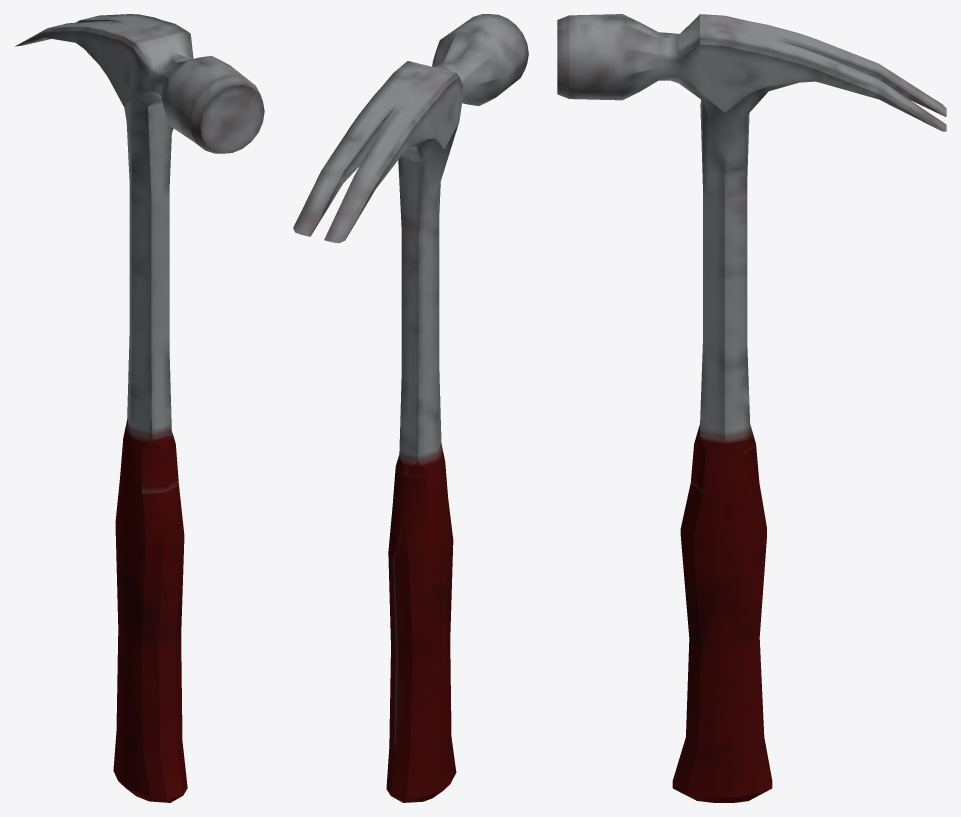
The model's file is claw_hammer.glb.
3 renders of one model, left to right at view 1: azimuth 30°, elevation 25°; view 2: azimuth 150°, elevation 25°; view 3: azimuth 270°, elevation 25°, orthographic. The views are drawn at different scales.
Parts seen in each view (by area): view 1: body; view 2: body; view 3: body.
Boxes of the visible parts, x1,y1,x2,y2 form: body: (15, 14, 264, 802); body: (293, 14, 528, 802); body: (557, 14, 946, 802).
Size of the model in its own units: 0.0407 by 0.4 by 0.1822.
Materials: 1 (1 with a texture image).
